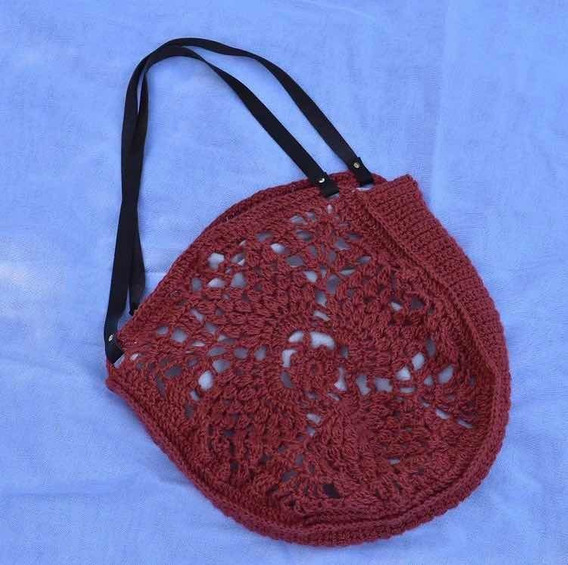cartera: (105, 35, 514, 550)
